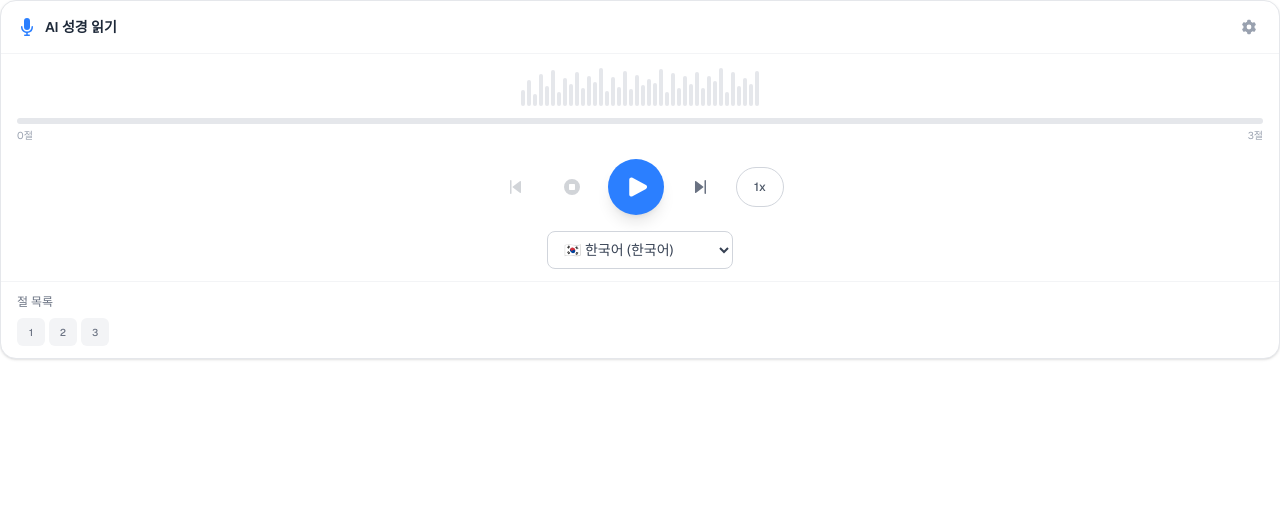
EnhancedAudioPlayer › settings panel › shows speed options in settings tab
Step 1. Click the button named "설정" → (1249, 27), box [1235,13,1263,41]
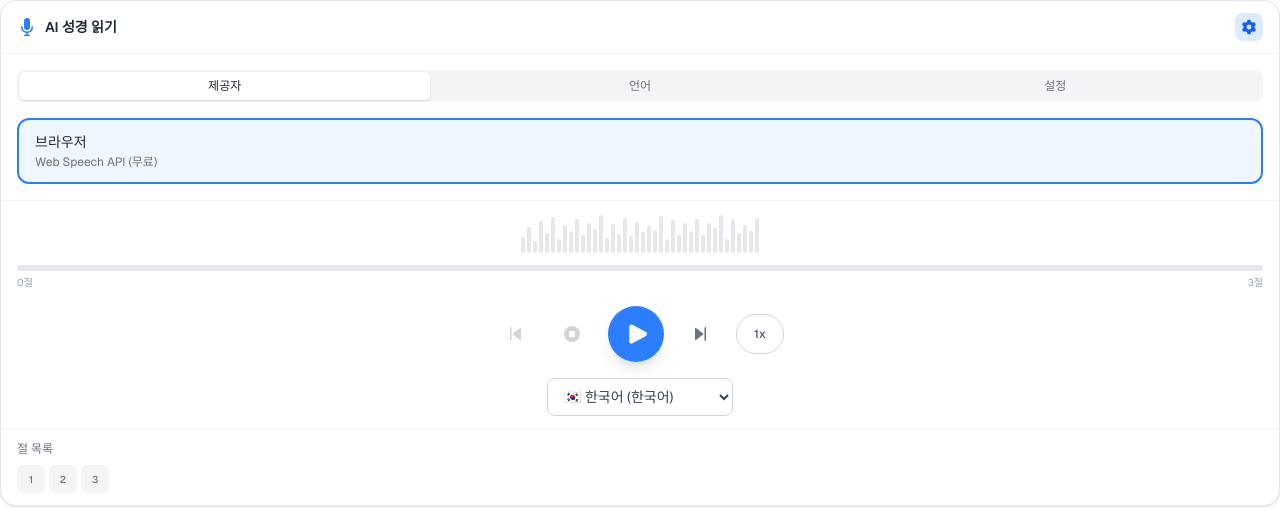
Step 2. Click the button "설정" → (1055, 86), box [850,72,1261,100]
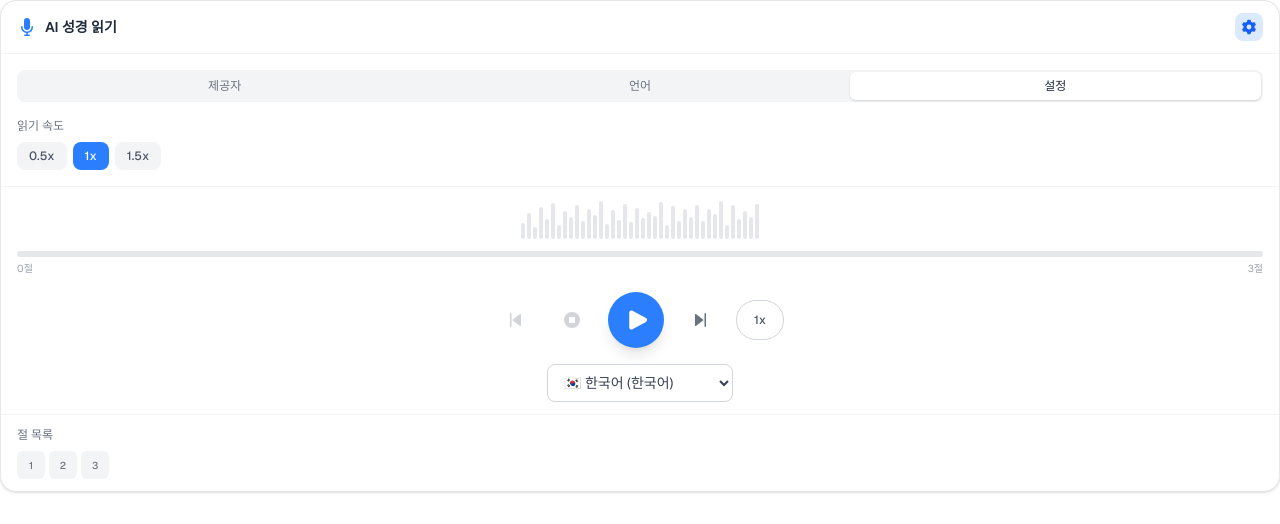
Expected: the text "읽기 속도" is shown, [17,118,64,134]
Expected: the button "0.5x" is shown, [17,142,67,170]
